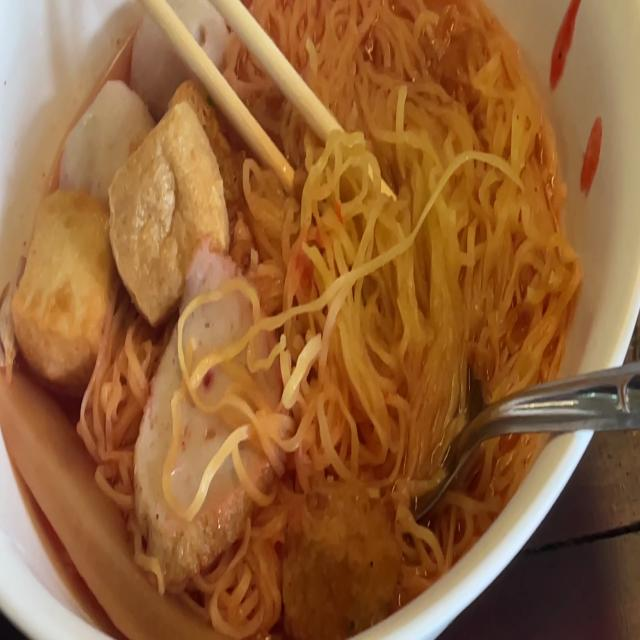crunchy_squid: (0, 377, 206, 636)
egg_noodles: (245, 0, 566, 499)
fish_ball: (60, 75, 154, 201), (127, 0, 228, 111)
fried_fish_balls: (139, 243, 274, 553)
fried_tofu: (114, 83, 234, 282)
noodle: (0, 0, 565, 624)
tofu: (15, 198, 106, 362)
